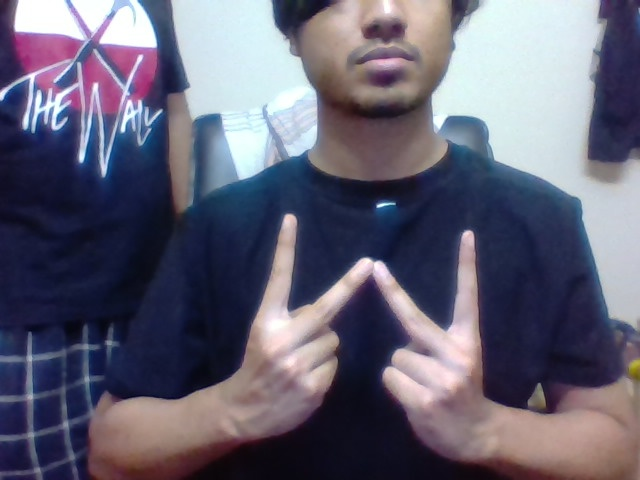W: (265, 207, 489, 342)
